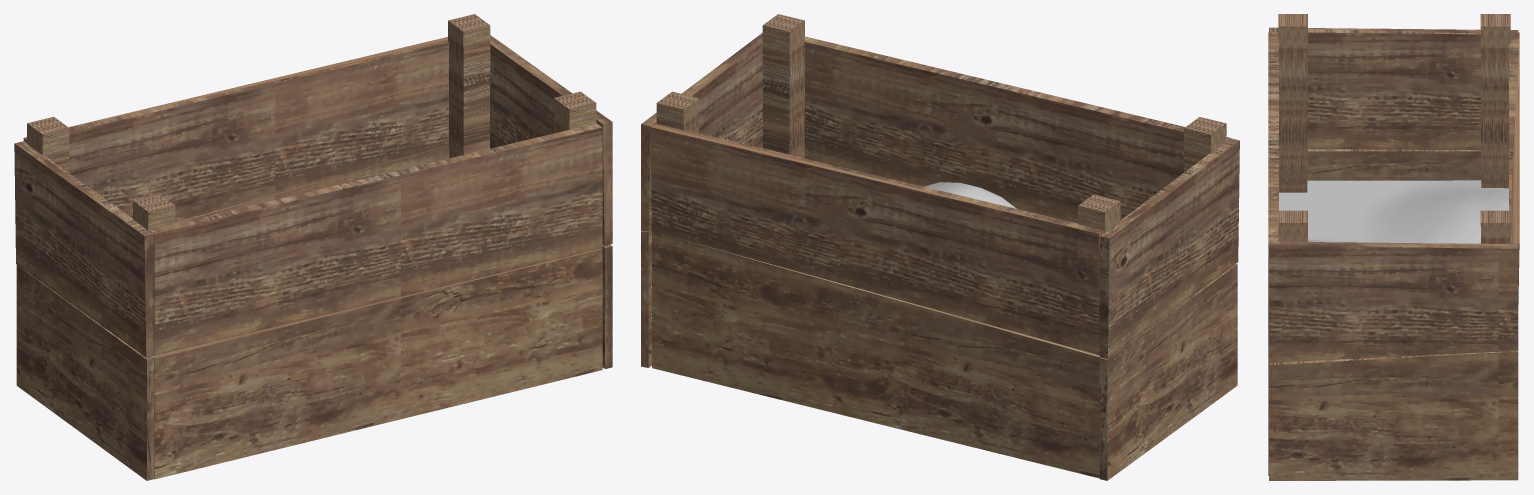
Rendered from animalFeederFixedFaceOrientation.fbx.
3 renders of one model, left to right at view 1: azimuth 30°, elevation 25°; view 2: azimuth 150°, elevation 25°; view 3: azimuth 270°, elevation 25°, orthographic. The views are drawn at different scales.
Visible parts, largest first — view 1: pen.001; view 2: pen.001; view 3: pen.001.
Part boxes in pixels (bbox=[...]): pen.001: bbox=[14, 14, 612, 480]; pen.001: bbox=[641, 14, 1239, 480]; pen.001: bbox=[1268, 14, 1519, 480].
Bounding box in the file's own units: 2.1 × 1.13 × 1.02.
